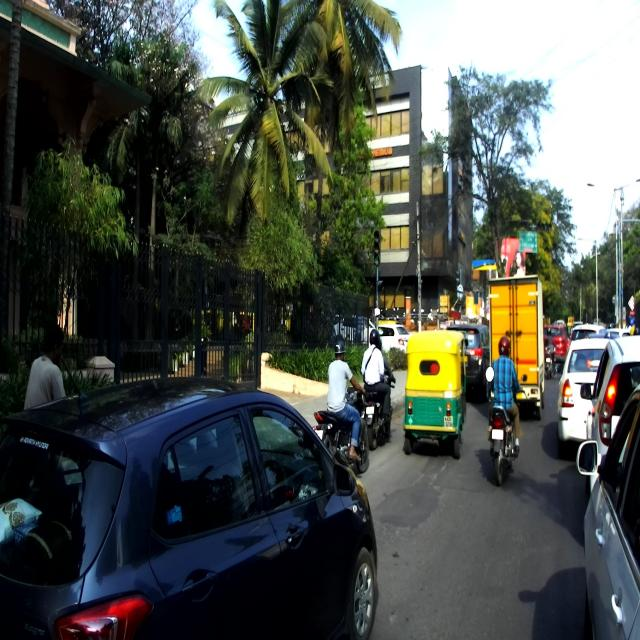autorickshaw: (402, 328, 468, 459)
car: (0, 373, 378, 639), (575, 379, 640, 638), (580, 332, 640, 508), (554, 336, 616, 459), (447, 321, 494, 401), (542, 325, 569, 374), (375, 321, 409, 356)
motorcycle: (311, 384, 369, 473), (487, 372, 528, 486), (359, 366, 396, 452), (543, 342, 555, 378)
truck: (484, 259, 552, 420)
